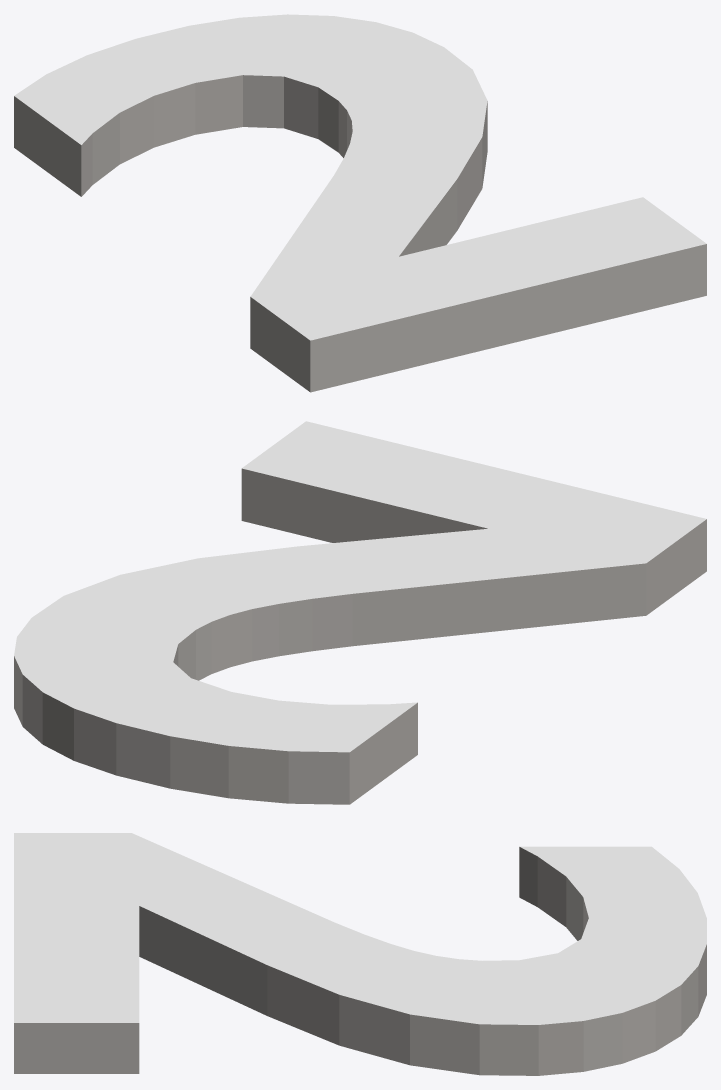
File: shuzi02.FBX
3 renders of one model, top to bottom at view 1: azimuth 30°, elevation 25°; view 2: azimuth 150°, elevation 25°; view 3: azimuth 270°, elevation 25°, orthographic. The views are drawn at different scales.
Visible parts, largest first — view 1: shuzi02; view 2: shuzi02; view 3: shuzi02.
Part boxes in pixels (<box>): shuzi02: <box>14,14,706,392</box>; shuzi02: <box>14,421,706,804</box>; shuzi02: <box>14,833,706,1075</box>.
Bounding box in the file's own units: 72.42 × 8.95 × 110.
